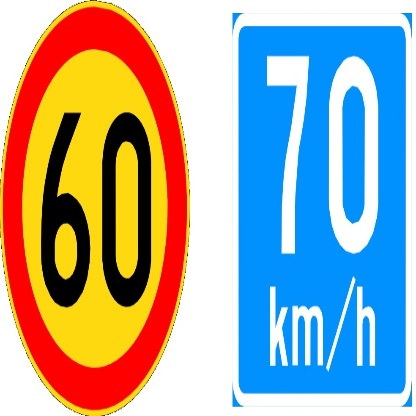limit2: (1, 1, 190, 416)
